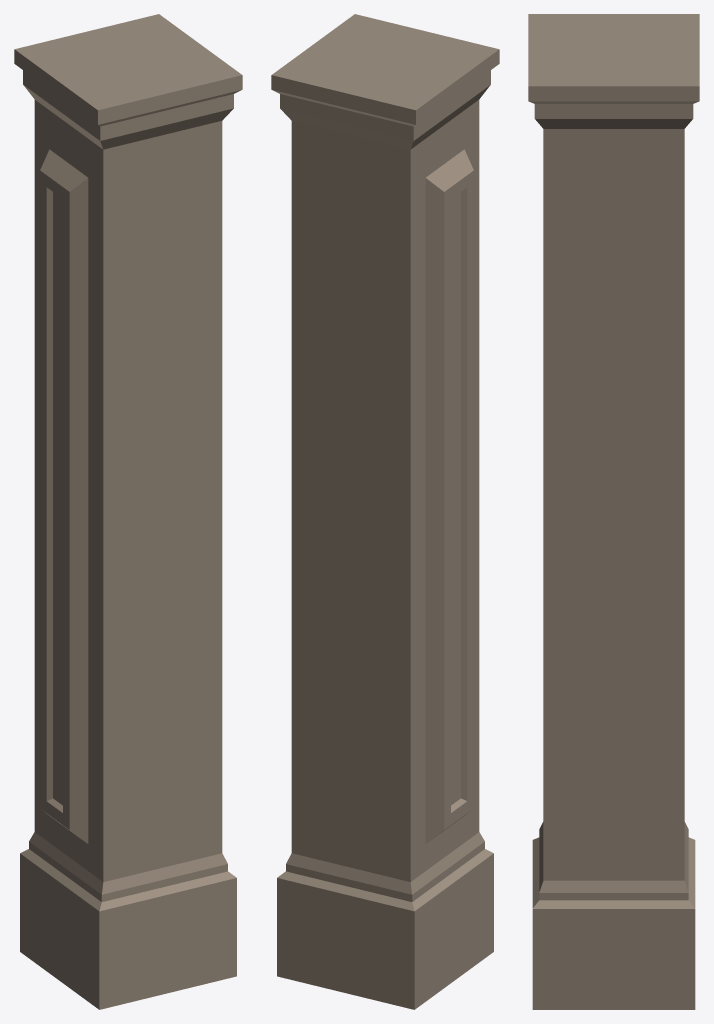
File: BC_InsidePillar_G.fbx
3 views of the same model, side by side, from view 1: azimuth 30°, elevation 25°; view 2: azimuth 150°, elevation 25°; view 3: azimuth 270°, elevation 25° (orthographic). The views are drawn at different scales.
Parts seen in each view (by area): view 1: BC_InsidePillar_G; view 2: BC_InsidePillar_G; view 3: BC_InsidePillar_G.
Boxes of the visible parts, x1,y1,x2,y2 form: BC_InsidePillar_G: (14,14,242,1009); BC_InsidePillar_G: (271,14,499,1009); BC_InsidePillar_G: (528,14,699,1009).
Bounding box in the file's own units: 66.9 × 395 × 66.29.
